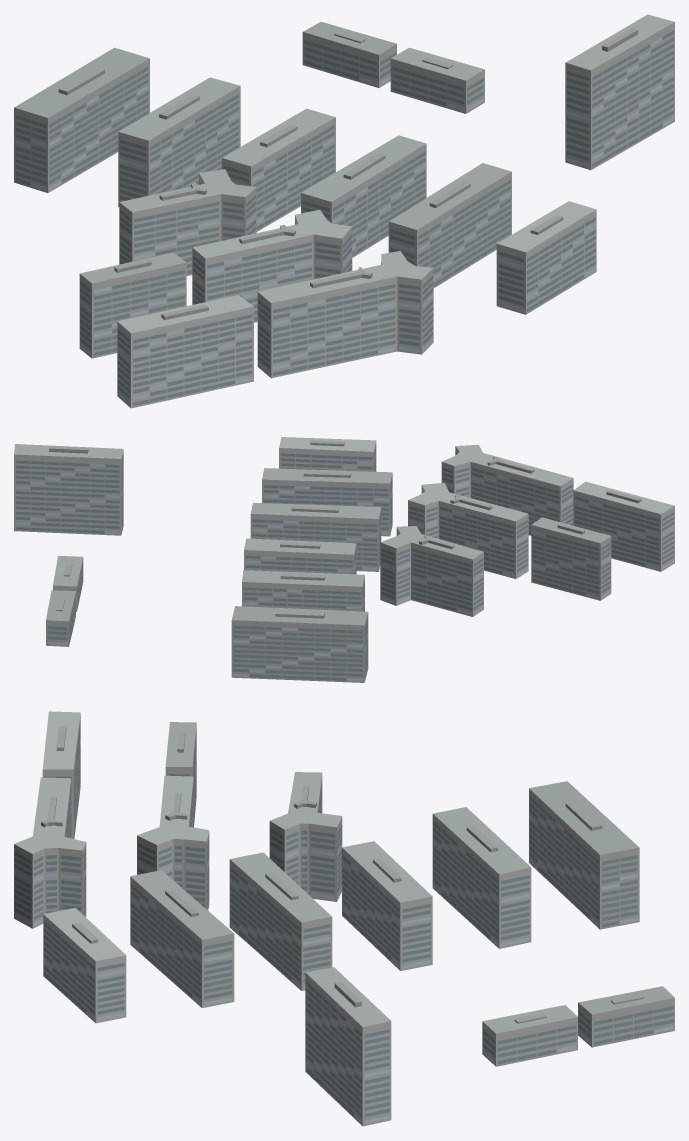
File: apt-a15279403.glb
3 views of the same model, one above another, from view 1: azimuth 30°, elevation 25°; view 2: azimuth 150°, elevation 25°; view 3: azimuth 270°, elevation 25° (orthographic). The views are drawn at different scales.
Parts seen in each view (by area): view 1: apt-a15279403; view 2: apt-a15279403; view 3: apt-a15279403.
Boxes of the visible parts, x1,y1,x2,y2 form: apt-a15279403: (14, 14, 674, 408); apt-a15279403: (14, 437, 674, 682); apt-a15279403: (14, 711, 674, 1126).
Size of the model in its own units: 336 by 47.81 by 276.
